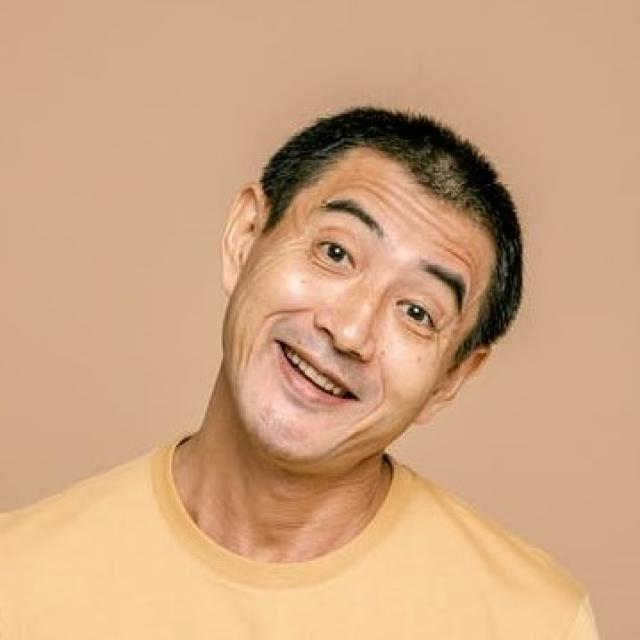Wrinkles: (335, 185, 409, 220), (407, 202, 447, 236), (436, 242, 473, 267), (369, 181, 407, 202), (415, 196, 436, 213), (394, 181, 415, 196)
